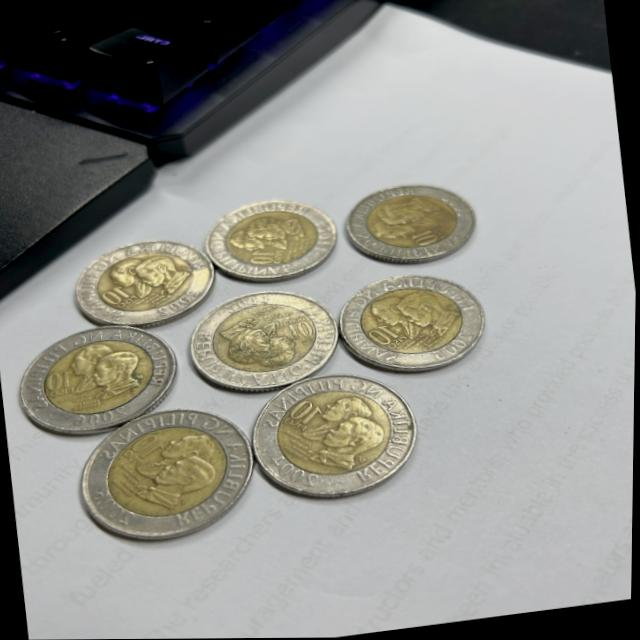10_Old_Front: (131, 431, 169, 457), (40, 368, 77, 392), (289, 399, 322, 423), (97, 283, 130, 305), (285, 319, 317, 341), (365, 322, 397, 344), (408, 226, 438, 248), (249, 244, 275, 267)
